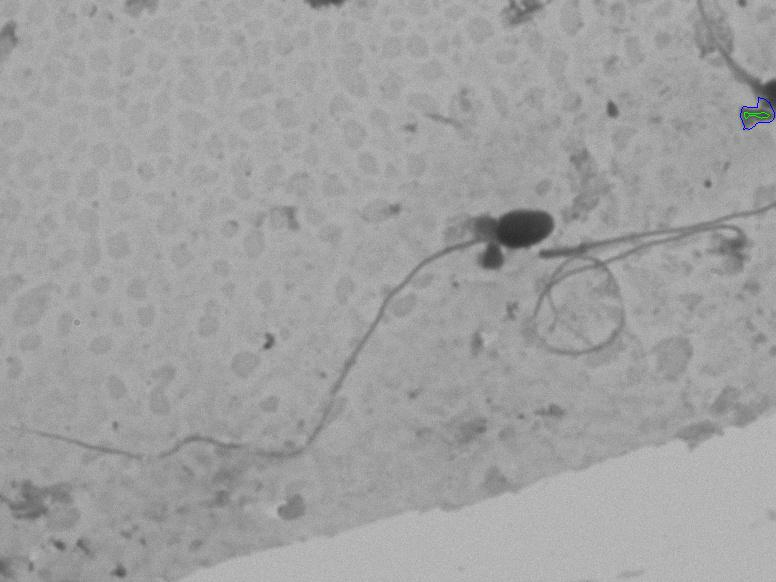Abnormal: (51, 185, 554, 486)
